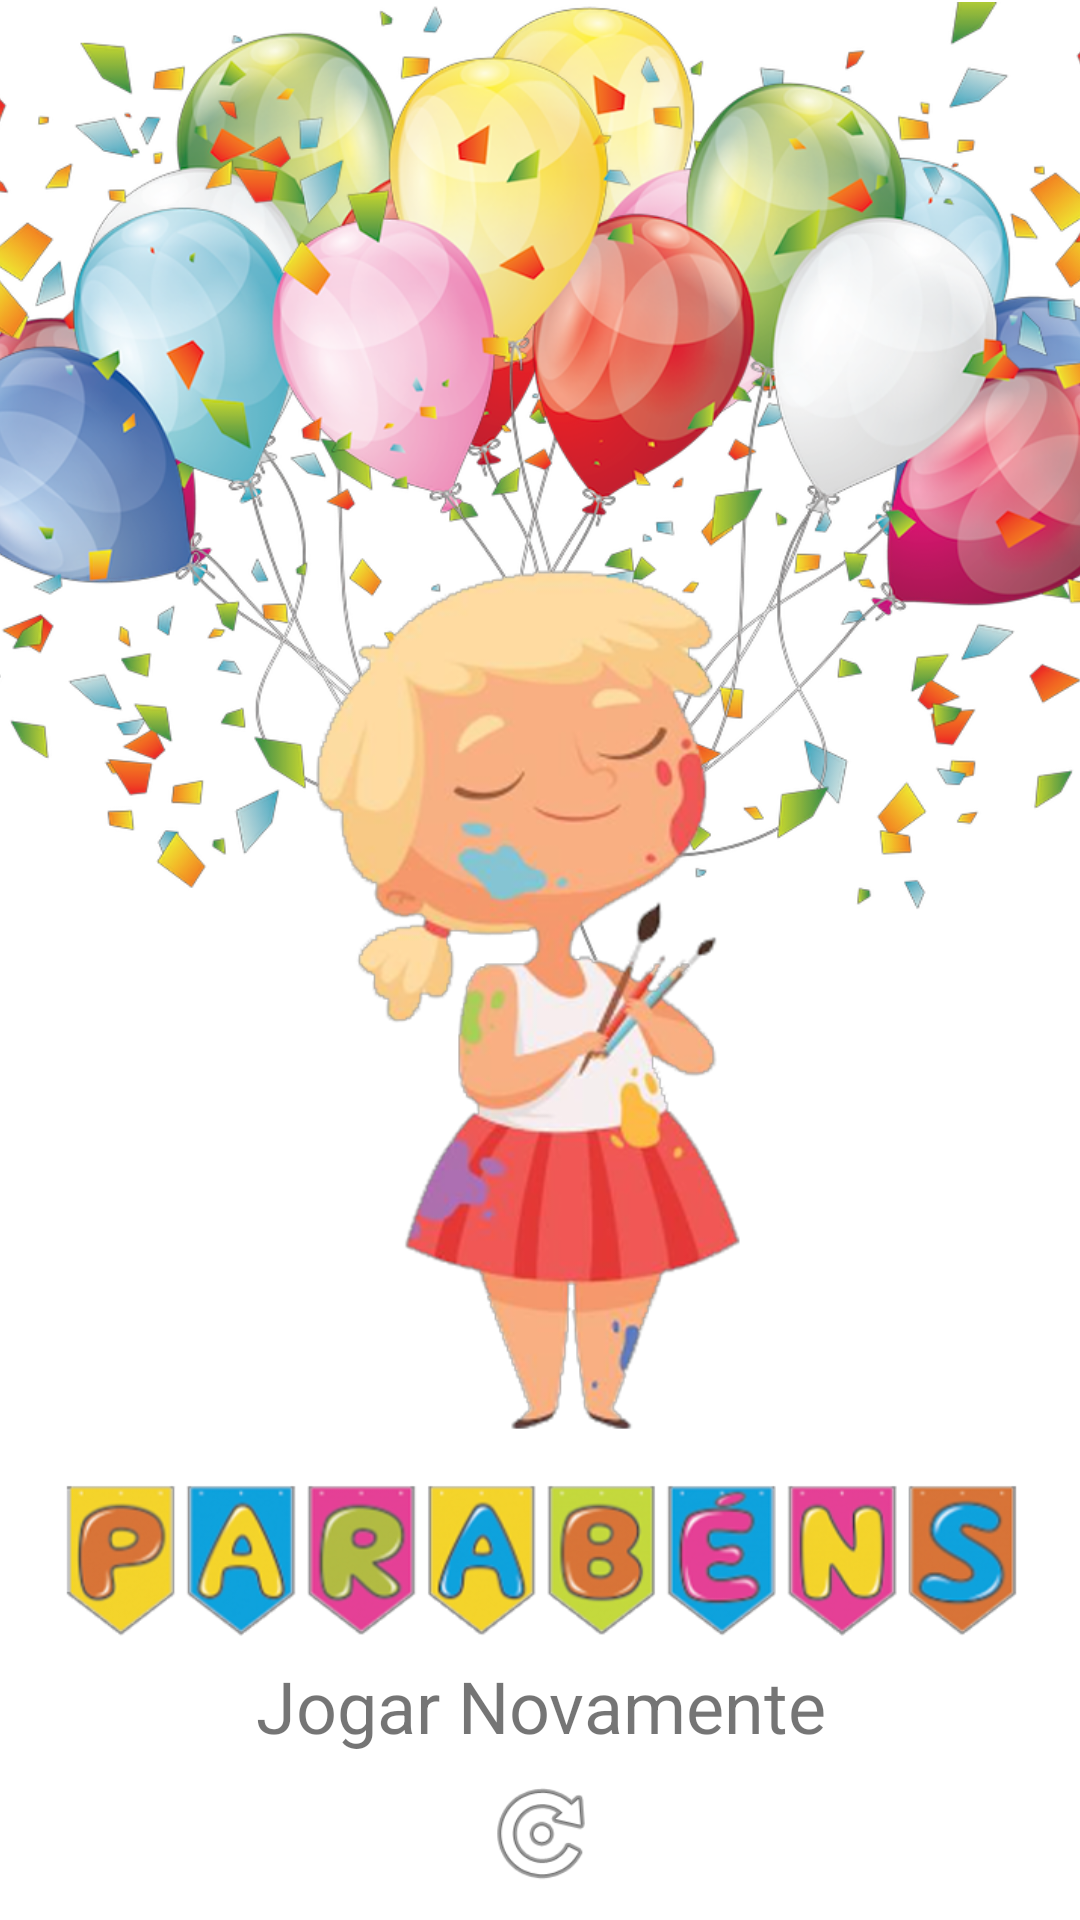

Point at icon controls on the screen. Image size 1080px x 1920px, points as (x=x, y=y).
rotate: (x=541, y=1834)
